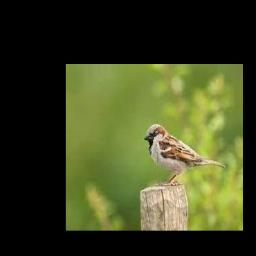Sparrow: (144, 124, 225, 185)
